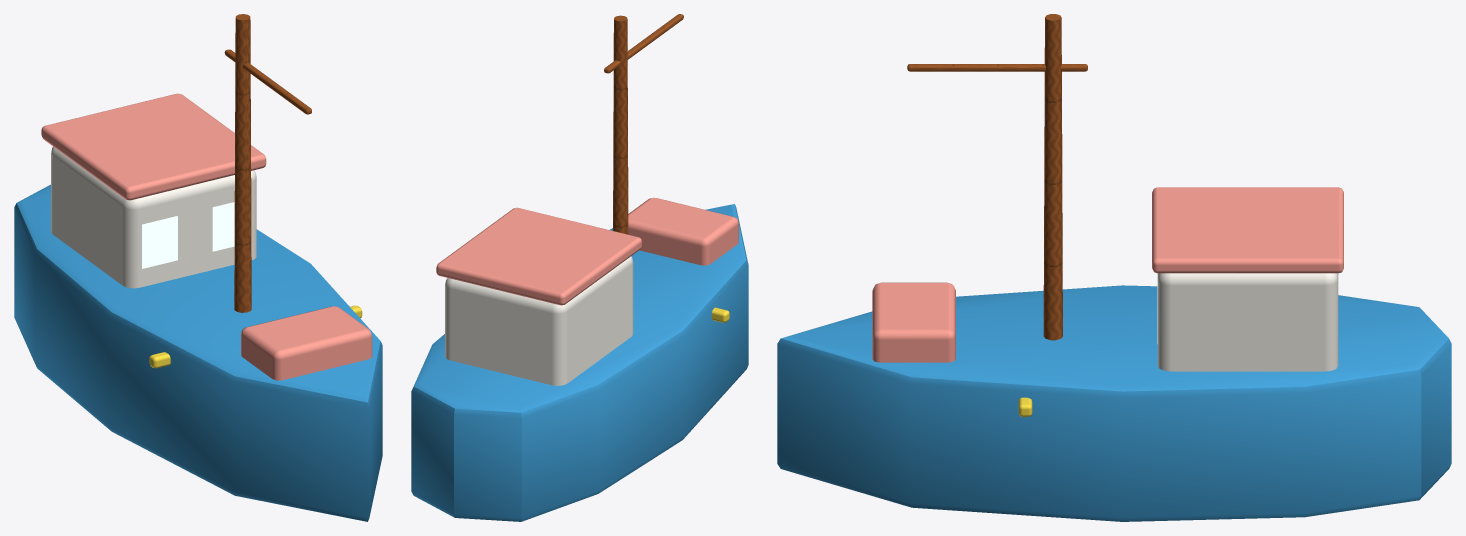
File: hero-shooter-harbour-payload-fishing-boat-small-4334890e__27704.glb
The picture shows the model from 3 angles, left to right: view 1: azimuth 30°, elevation 25°; view 2: azimuth 150°, elevation 25°; view 3: azimuth 270°, elevation 25°; orthographic projection. The views are drawn at different scales.
Parts seen in each view (by area): view 1: fishing-boat-small; view 2: fishing-boat-small; view 3: fishing-boat-small.
Boxes of the visible parts, left/top/right/bottom form: fishing-boat-small: left=14, top=14, right=382, bottom=521; fishing-boat-small: left=411, top=14, right=748, bottom=521; fishing-boat-small: left=777, top=14, right=1451, bottom=521.
Size of the model in its own units: 1.9 by 3.6 by 4.85.
6 materials, 1 textured.
